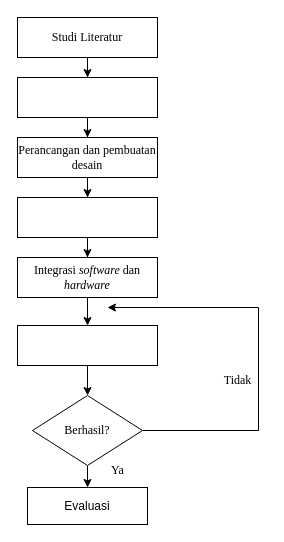
Image size: 284x542. Some labels were removed from this diagram. Here are the shapes that lost their labels. From the top down, the centre of each, then its label:
At point (87, 97): "Persiapan bahan dan alat".
At point (87, 217): "Perangkaian Fusfil".
At point (87, 345): "Pengujian Fusfil".
